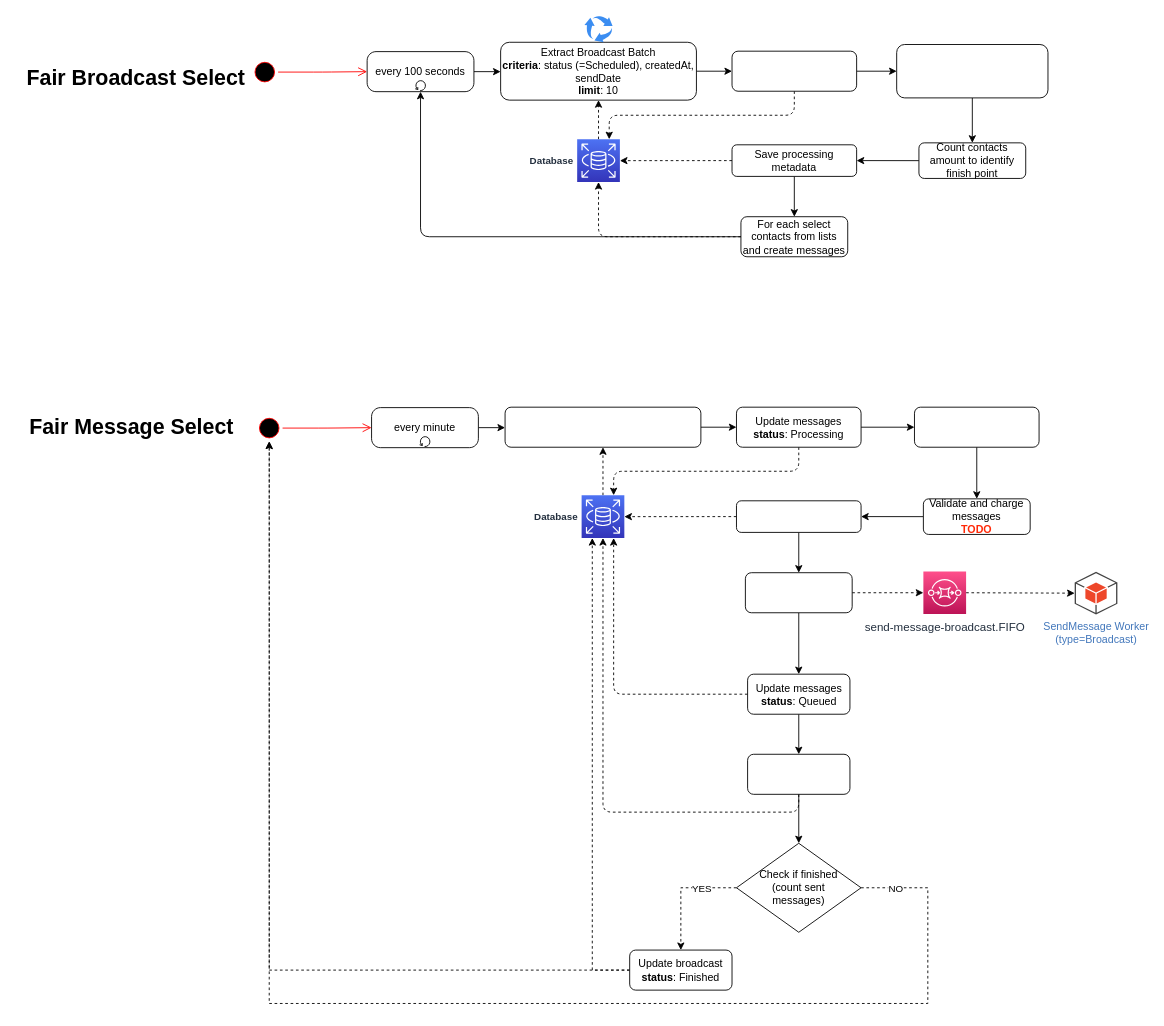
Image size: 1164x1026. Some labels were removed from this diagram. Here are the shapes that lost their labels. From the top down, the centre of each, then its label:
At point (794, 70): "Update status status : Running?".
At point (972, 71): "Extract Broadcast criteria : status (=Running?), createdAt, sendDate limit : 10".
At point (602, 426): "Extract Messages criteria : type,status,timeToSend limit : 5000".
At point (976, 426): "Select with limits per organization".
At point (798, 516): "Update messages status: Failed".
At point (798, 592): "Put UUID into the queue".
At point (798, 773): "Update last sent metadata for Broadcast".
